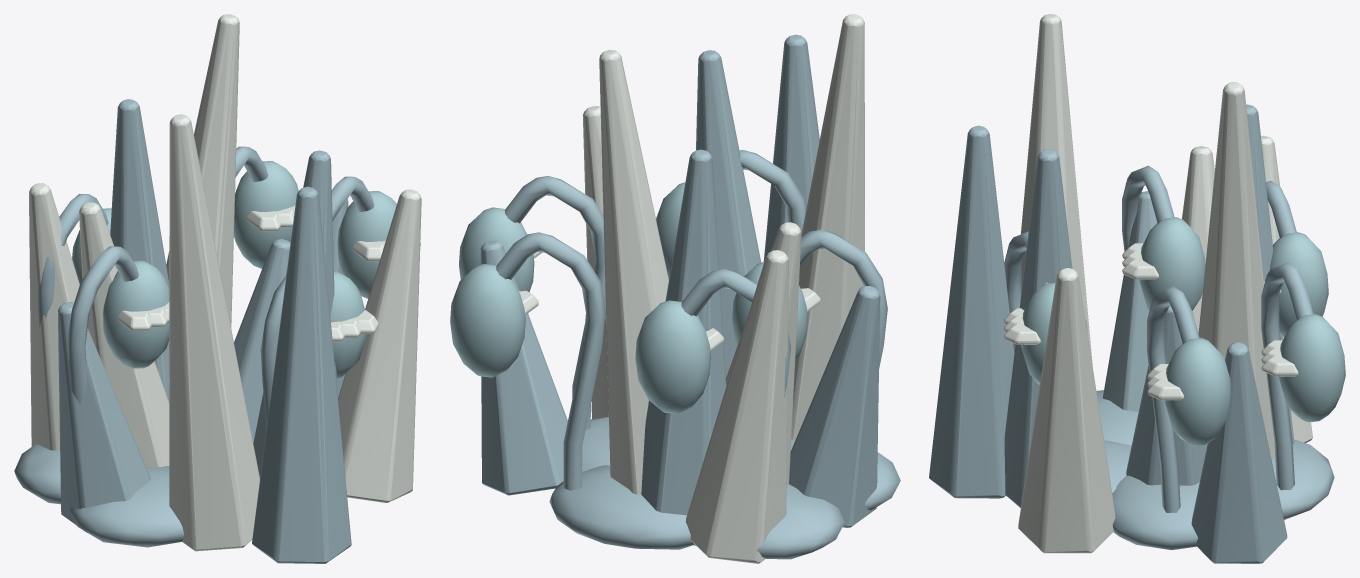
The model's file is bio_crystal_fan_13_far.glb.
3 renders of one model, left to right at view 1: azimuth 30°, elevation 25°; view 2: azimuth 150°, elevation 25°; view 3: azimuth 270°, elevation 25°, orthographic. The views are drawn at different scales.
Parts seen in each view (by area): view 1: Reflecting mineral prism.007, Reflecting mineral prism.002, Reflecting mineral prism.005, Reflecting mineral prism.004, Reflecting mineral prism.003, Reflecting mineral prism.001, Reflecting mineral prism.009, Mineral substrate, Reflecting mineral prism.006, Pendant spore capsule.004, Reflecting mineral prism, Pendant spore capsule.003 (+13 smaller); view 2: Reflecting mineral prism.001, Reflecting mineral prism.003, Reflecting mineral prism.007, Reflecting mineral prism.004, Reflecting mineral prism.006, Mineral substrate, Reflecting mineral prism.008, Reflecting mineral prism.010, Pendant spore capsule.003, Pendant spore capsule.001, Arched fruit stem.003, Reflecting mineral prism.002 (+9 smaller); view 3: Reflecting mineral prism.002, Reflecting mineral prism.005, Reflecting mineral prism.003, Reflecting mineral prism.008, Mineral substrate, Reflecting mineral prism.010, Reflecting mineral prism.007, Pendant spore capsule.003, Pendant spore capsule, Reflecting mineral prism.004, Arched fruit stem.003, Arched fruit stem (+14 smaller).
Boxes of the visible parts, x1,y1,x2,y2 form: Reflecting mineral prism.007: (169,114,259,551); Reflecting mineral prism.002: (252,186,351,563); Reflecting mineral prism.005: (338,189,421,502); Reflecting mineral prism.004: (58,302,150,532); Reflecting mineral prism.003: (166,14,239,385); Reflecting mineral prism.001: (29,183,79,450); Reflecting mineral prism.009: (79,202,169,467); Mineral substrate: (14,444,183,547); Reflecting mineral prism.006: (110,99,169,401); Pendant spore capsule.004: (103,260,169,368); Reflecting mineral prism: (234,239,290,442); Pendant spore capsule.003: (234,161,298,268); Reflecting mineral prism.001: (685,250,788,563); Reflecting mineral prism.003: (599,50,668,494); Reflecting mineral prism.007: (791,14,864,439); Reflecting mineral prism.004: (789,285,880,527); Reflecting mineral prism.006: (641,149,726,515); Mineral substrate: (549,417,900,559); Reflecting mineral prism.008: (480,240,567,495); Reflecting mineral prism.010: (696,50,761,377); Pendant spore capsule.003: (450,264,525,377); Pendant spore capsule.001: (635,300,710,413); Arched fruit stem.003: (496,232,605,490); Reflecting mineral prism.002: (763,34,819,261); Reflecting mineral prism.002: (929,125,1014,498); Reflecting mineral prism.005: (1018,268,1115,553); Reflecting mineral prism.003: (1198,82,1275,459); Reflecting mineral prism.008: (1191,342,1287,563); Mineral substrate: (1096,390,1334,549); Reflecting mineral prism.010: (1004,149,1072,507); Reflecting mineral prism.007: (1021,14,1092,364); Pendant spore capsule.003: (1278,314,1345,422); Pendant spore capsule: (1164,338,1231,446); Reflecting mineral prism.004: (1102,191,1157,411); Arched fruit stem.003: (1261,262,1313,490); Arched fruit stem: (1147,286,1199,512).
Size of the model in its own units: 1.63 by 1.85 by 1.59.
